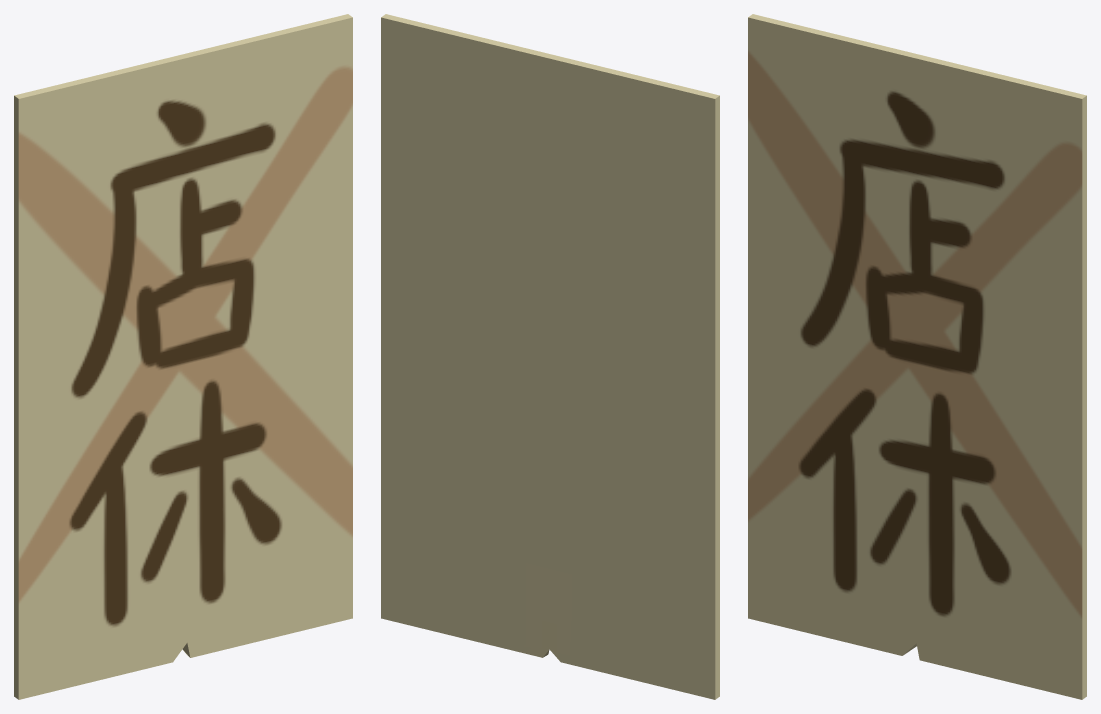
Rendered from Poster_Closed.gltf.
3 views of the same model, side by side, from view 1: azimuth 30°, elevation 25°; view 2: azimuth 150°, elevation 25°; view 3: azimuth 330°, elevation 25° (orthographic).
Parts seen in each view (by area): view 1: Poster_Closed; view 2: Poster_Closed; view 3: Poster_Closed.
Part boxes in pixels (<box>): Poster_Closed: <box>14,14,352,699</box>; Poster_Closed: <box>381,14,719,699</box>; Poster_Closed: <box>748,14,1086,699</box>.
Size of the model in its own units: 0.493 by 0.8474 by 0.0121.
1 material, 1 textured.
